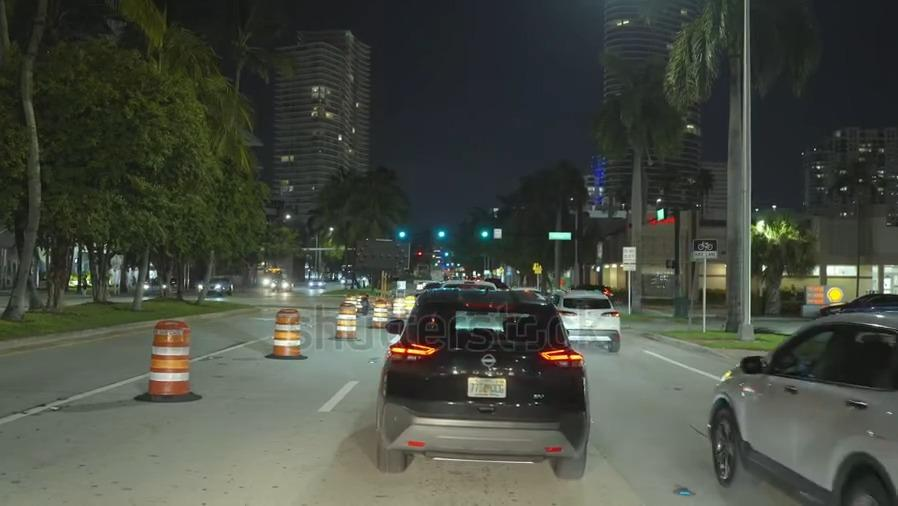bus: (261, 264, 287, 287)
car: (381, 291, 586, 471), (706, 320, 898, 506), (550, 288, 619, 351), (826, 289, 898, 319), (137, 272, 185, 299), (193, 272, 235, 299), (578, 280, 615, 298), (309, 275, 326, 291), (274, 279, 294, 292)
cone: (147, 316, 191, 391), (273, 305, 301, 357), (334, 299, 357, 340), (373, 298, 388, 330), (392, 295, 404, 322), (405, 293, 415, 314)
traffic light: (474, 221, 495, 250), (429, 222, 451, 249), (393, 226, 410, 245)
wheel: (709, 402, 743, 484), (837, 469, 888, 506)
